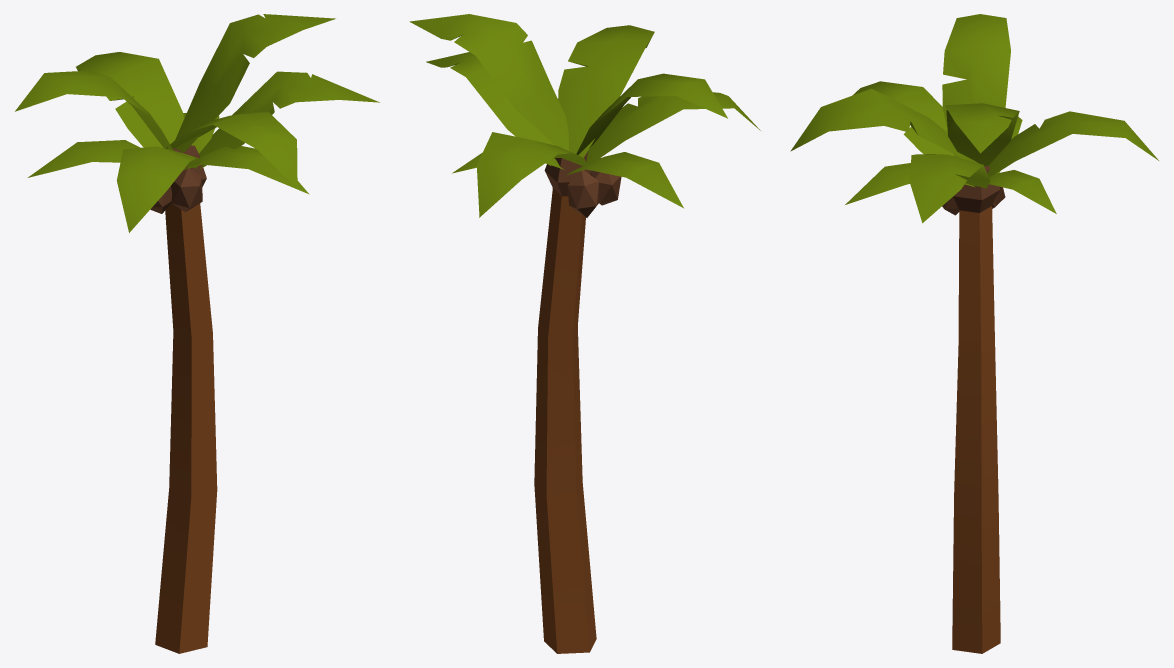
Rendered from PalmTree1.fbx.
3 renders of one model, left to right at view 1: azimuth 30°, elevation 25°; view 2: azimuth 150°, elevation 25°; view 3: azimuth 270°, elevation 25°, orthographic. The views are drawn at different scales.
Visible parts, largest first — view 1: PalmTree1; view 2: PalmTree1; view 3: PalmTree1.
Part boxes in pixels (x1=…): PalmTree1: x1=15, y1=14, x2=379, y2=653; PalmTree1: x1=409, y1=14, x2=760, y2=653; PalmTree1: x1=790, y1=14, x2=1158, y2=653.
Size of the model in its own units: 191 by 324 by 189.
